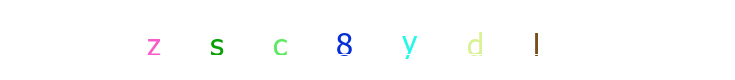8: (321, 0, 401, 80)
C: (304, 0, 384, 80)
D: (369, 0, 449, 80)
L: (402, 0, 482, 80)
S: (224, 0, 304, 80)
Y: (327, 0, 407, 80)
Z: (164, 0, 244, 80)
